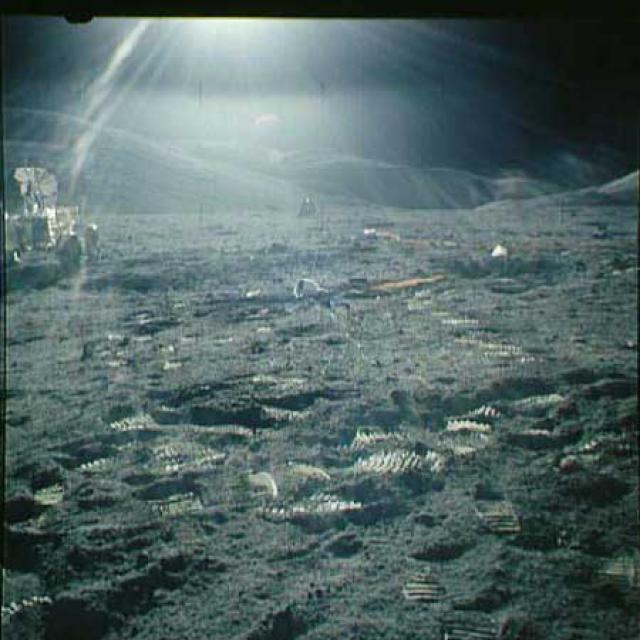artifact: (0, 154, 103, 287), (466, 242, 529, 293), (288, 185, 330, 220)
crater: (91, 242, 570, 296)
